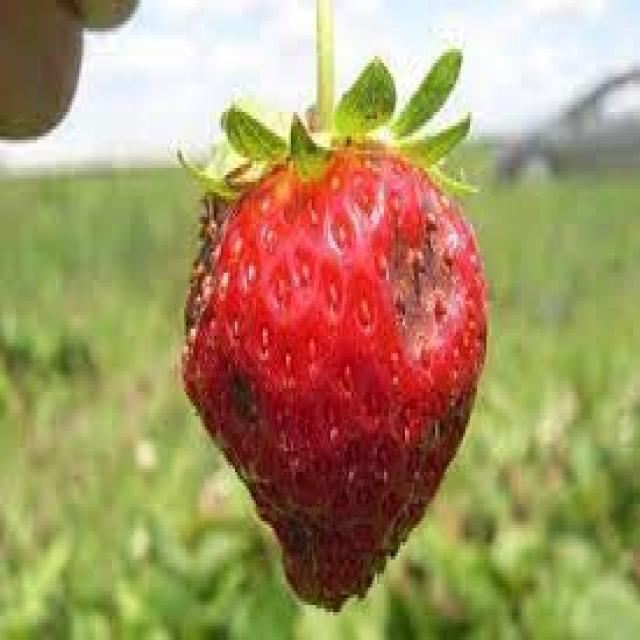Mancha negra Antracnosis: (186, 154, 482, 621)
